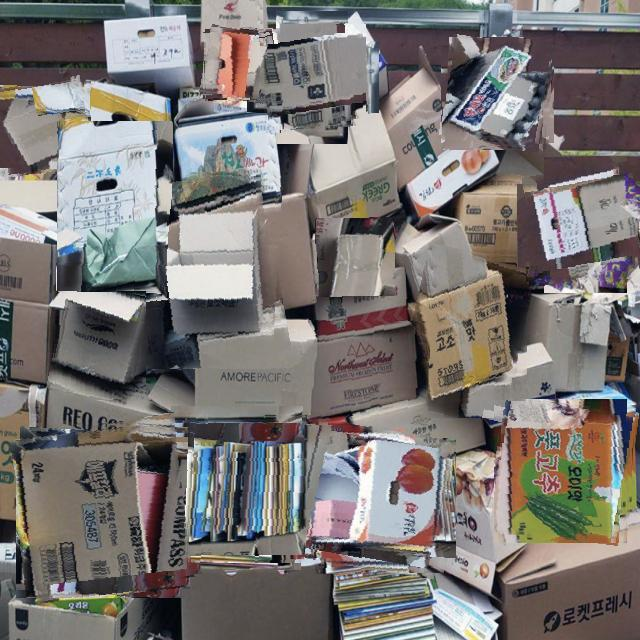biodegradable: (16, 418, 195, 598), (130, 171, 283, 369), (301, 423, 452, 574), (162, 414, 312, 563), (406, 248, 530, 418), (494, 400, 636, 543), (57, 121, 172, 292), (526, 165, 640, 282), (306, 321, 431, 425), (442, 38, 553, 150), (52, 274, 146, 402), (259, 24, 366, 131), (0, 78, 91, 174), (315, 218, 395, 296), (202, 27, 277, 103)
